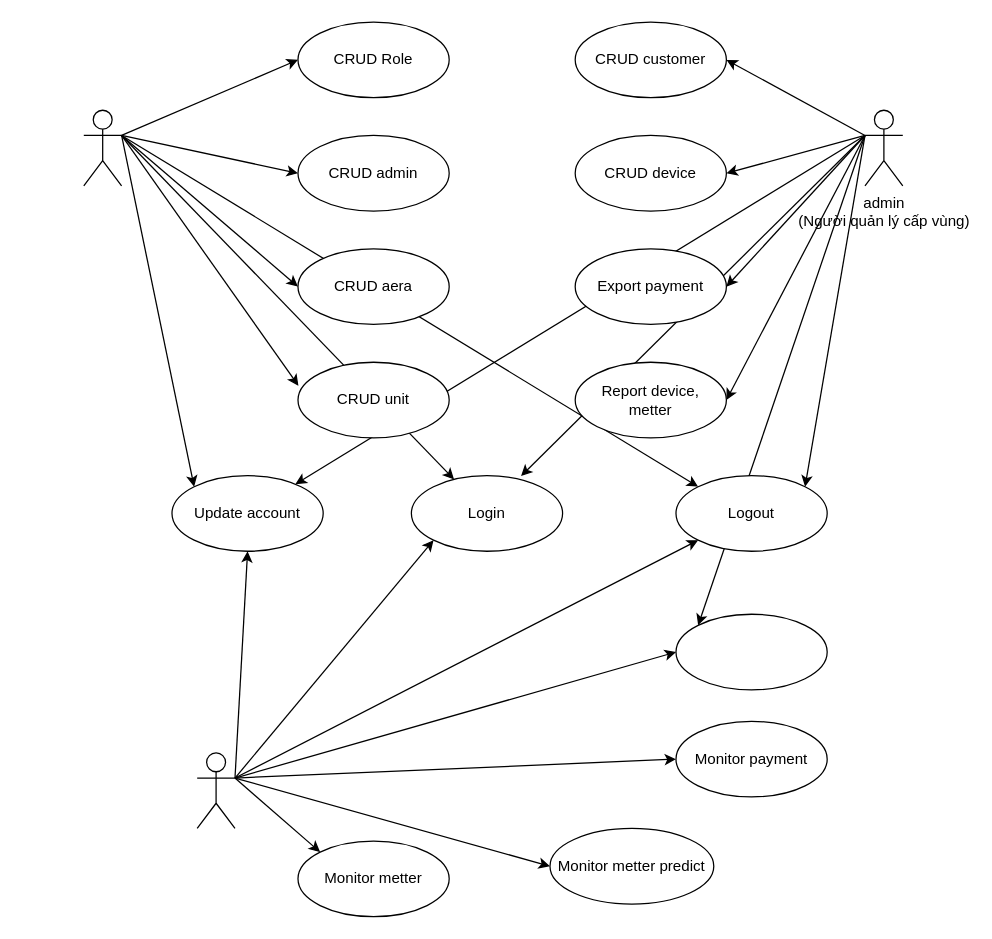
This 992x939 diagram has some shape labels left out. Here are the shapes that lost their labels. From the top down, the centre of each, then its label:
At point (102, 147): "Super admin (Người quản lý cấp cao)".
At point (751, 651): "Verification account".
At point (215, 790): "Customer (Hộ gia đình)".
